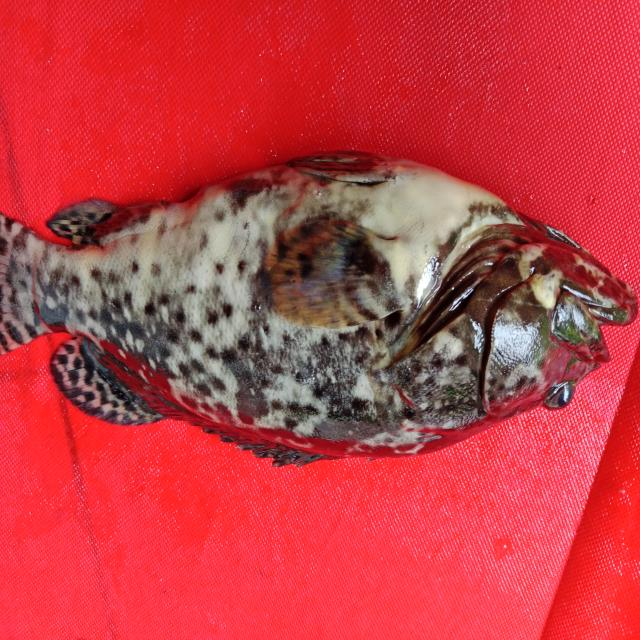ikan: (16, 131, 626, 478)
